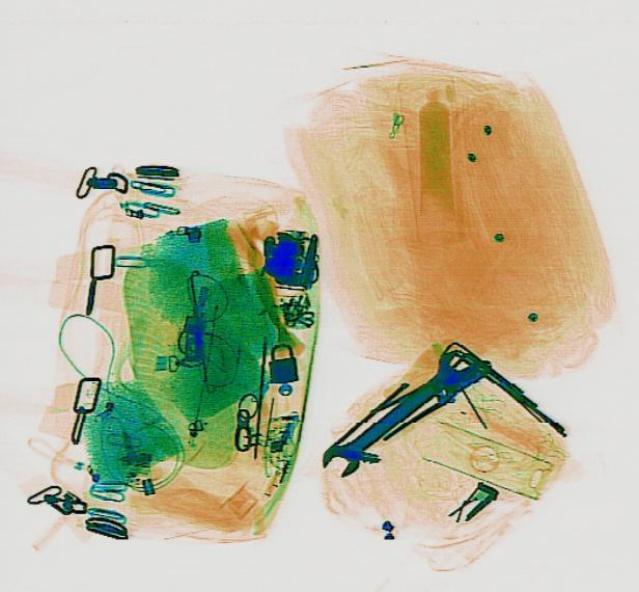Wrench: (311, 341, 482, 480)
